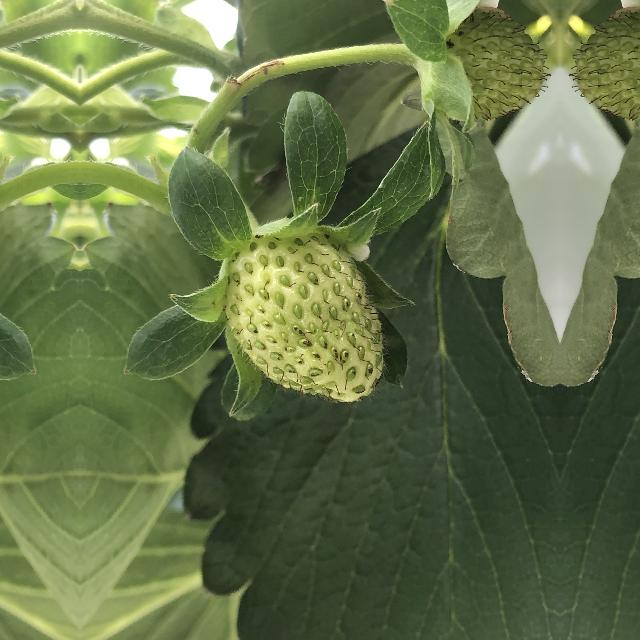Health_25: (229, 224, 391, 402)
